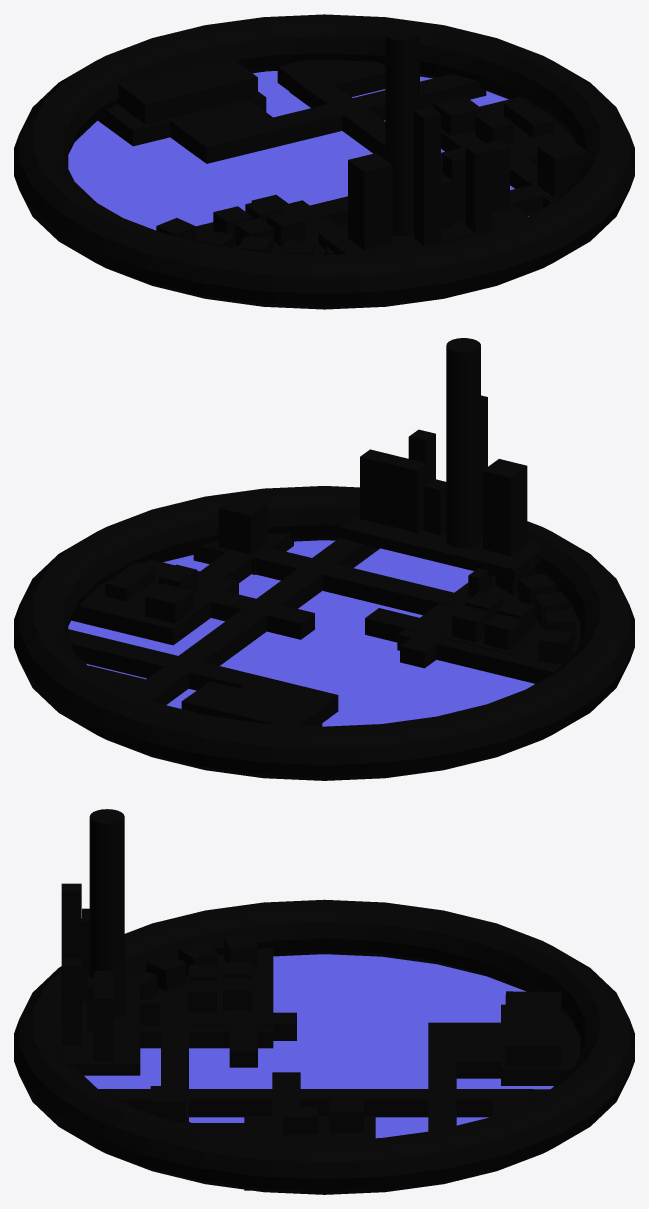
Rendered from NLA.fbx.
3 views of the same model, one above another, from view 1: azimuth 30°, elevation 25°; view 2: azimuth 150°, elevation 25°; view 3: azimuth 270°, elevation 25° (orthographic).
Visible parts, largest first — view 1: NLA, pDisc1, pCube7, pCylinder7, pCube24, pCube30, pCube28, pCube6, pCube3, pCube29, pCube26, pCube8 (+21 smaller); view 2: NLA, pDisc1, pCube3, pCylinder7, pCube10, pCube7, pCube26, pCube9, pCube29, pCube1, pCube30, pCube24 (+20 smaller); view 3: NLA, pDisc1, pCube3, pCylinder7, pCube24, pCube1, pCube26, pCube8, pCube7, pCube5, pCube10, pCube29 (+19 smaller).
Part boxes in pixels (x1,y1,x2,y2): NLA: (14, 14, 634, 309); pDisc1: (68, 71, 528, 230); pCube7: (193, 74, 486, 163); pCylinder7: (385, 25, 419, 235); pCube24: (118, 57, 257, 124); pCube30: (348, 153, 392, 250); pCube28: (414, 106, 440, 245); pCube6: (277, 59, 385, 97); pCube3: (289, 70, 442, 173); pCube29: (442, 140, 509, 222); pCube26: (318, 203, 527, 254); pCube8: (168, 99, 272, 156); NLA: (14, 486, 634, 780); pDisc1: (68, 540, 534, 726); pCube3: (129, 538, 379, 704); pCylinder7: (446, 338, 480, 548); pCube10: (206, 540, 467, 615); pCube7: (68, 629, 338, 717); pCube26: (340, 513, 544, 580); pCube9: (71, 559, 238, 645); pCube29: (360, 449, 427, 532); pCube1: (397, 575, 580, 683); pCube30: (482, 459, 527, 556); pCube24: (181, 681, 322, 726); NLA: (14, 899, 634, 1194); pDisc1: (84, 954, 553, 1138); pCube3: (99, 1089, 533, 1117); pCylinder7: (89, 809, 124, 1018); pCube24: (505, 991, 561, 1066); pCube1: (140, 947, 273, 1048); pCube26: (61, 979, 140, 1075); pCube8: (446, 1022, 505, 1078); pCube7: (428, 1022, 456, 1131); pCube5: (501, 1004, 580, 1085); pCube10: (161, 1009, 188, 1124); pCube29: (93, 971, 113, 1061).
Size of the model in its own units: 2.03 by 0.8608 by 2.01.
